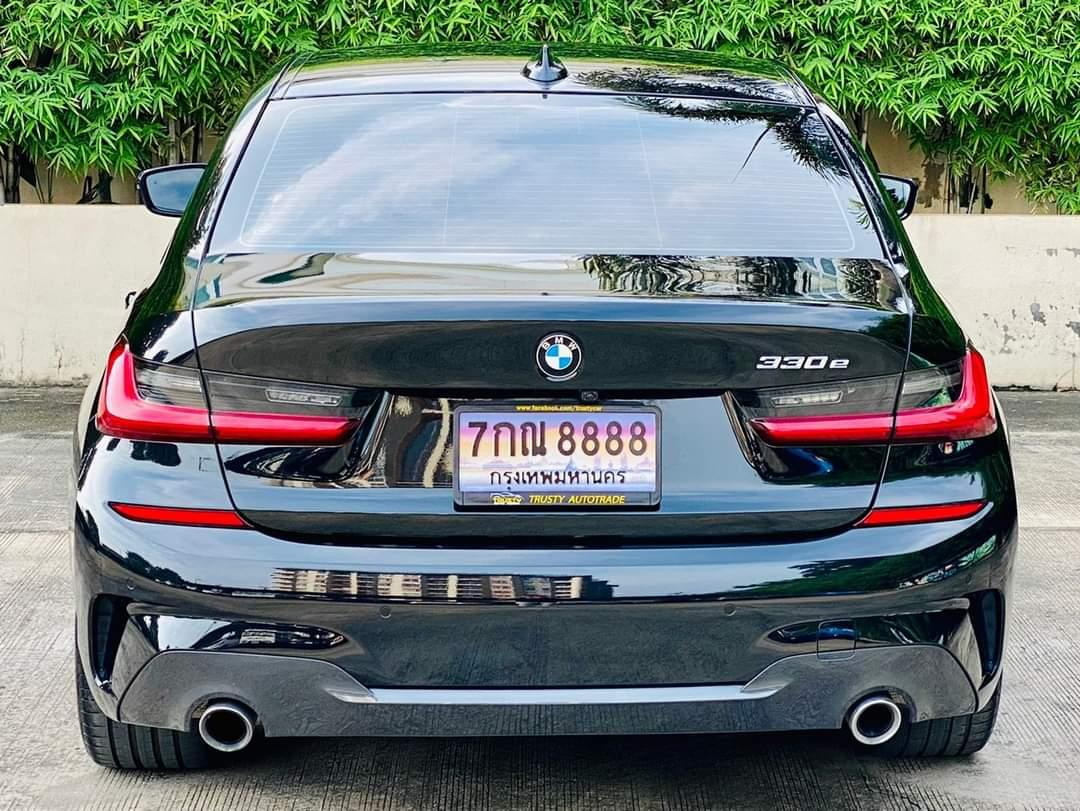license-plate: (453, 400, 664, 511)
